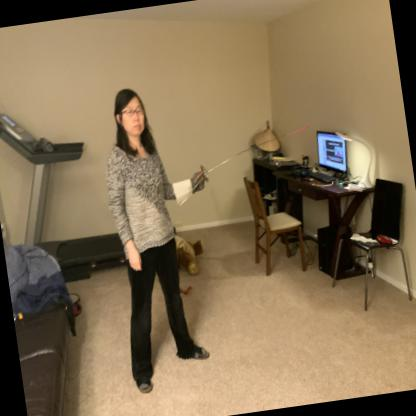foil-tip: (293, 119, 314, 136)
hand-and-foil: (166, 111, 327, 202)
